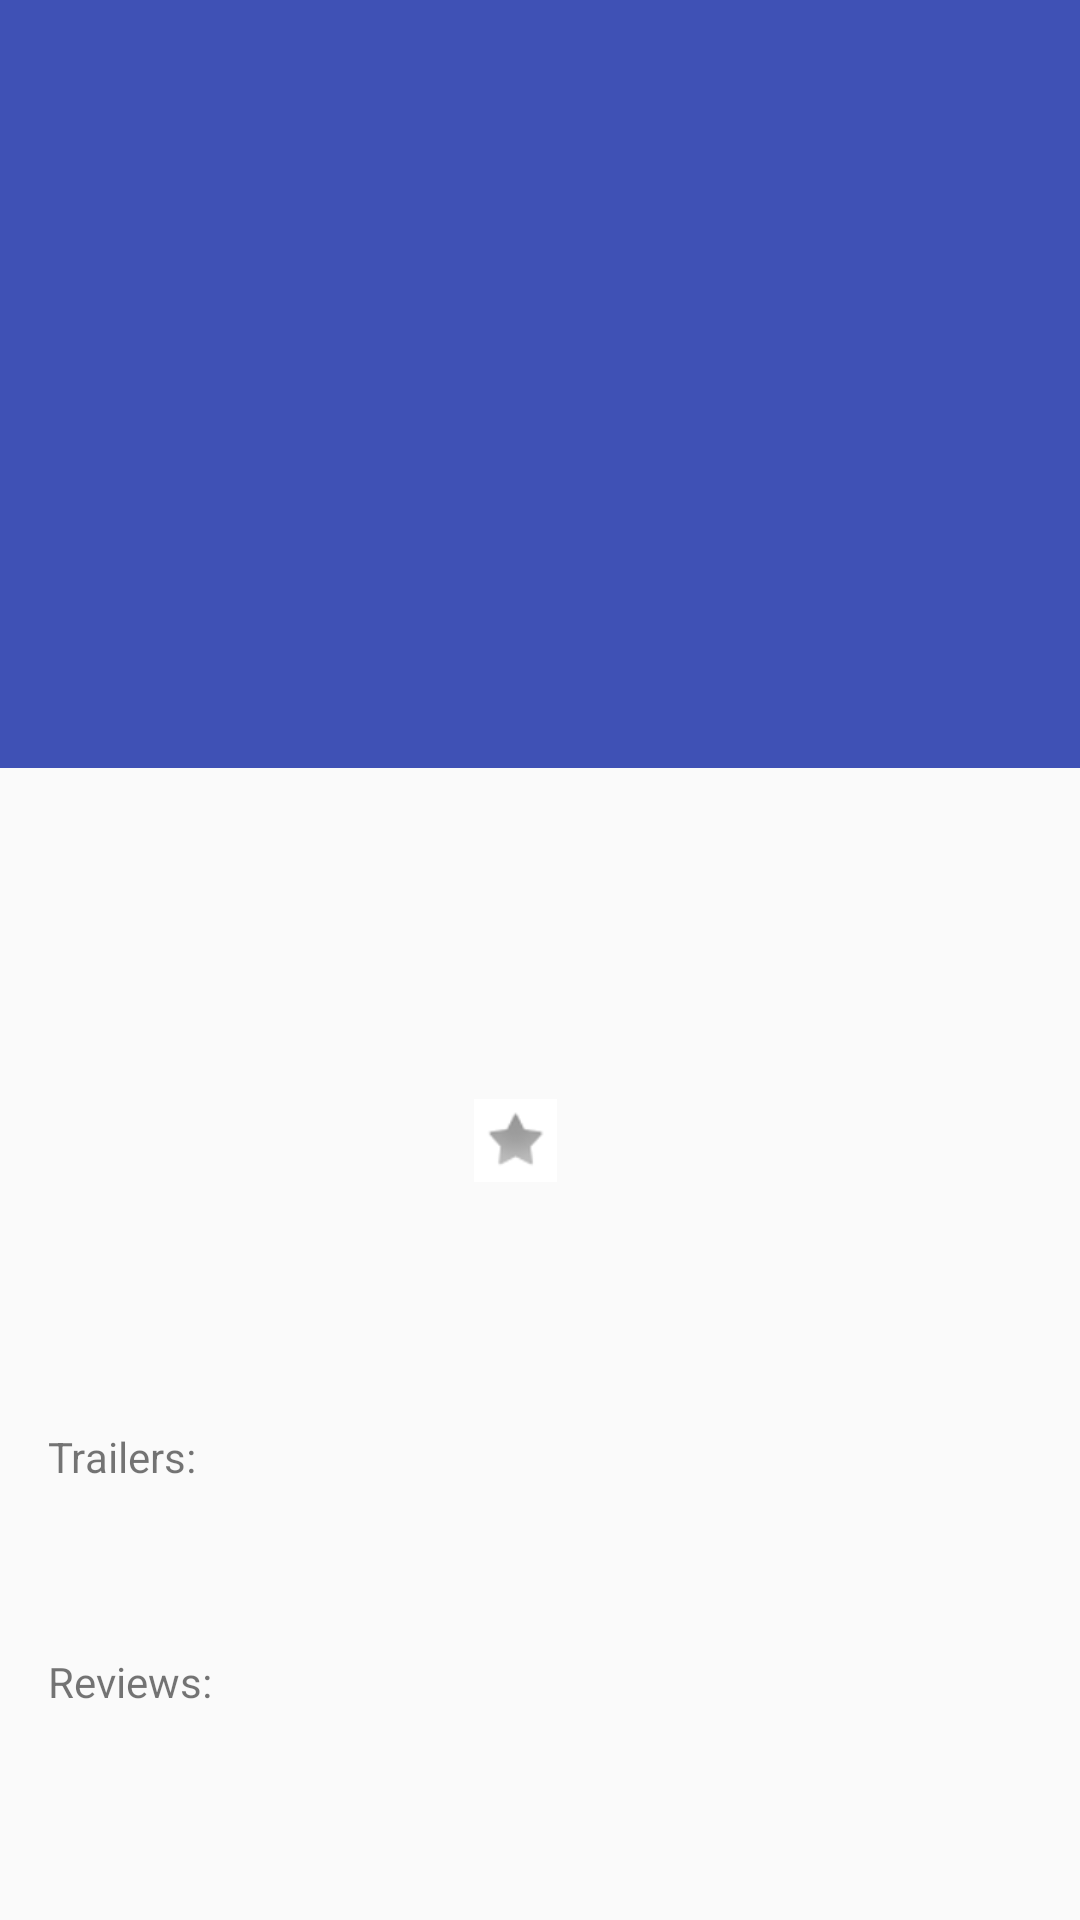

Named icons in this screenshot (1080w x 1920h) and their bounding boxes, (x1, y1, x2, y2):
Favorite indicator: (489, 1113, 542, 1164)
